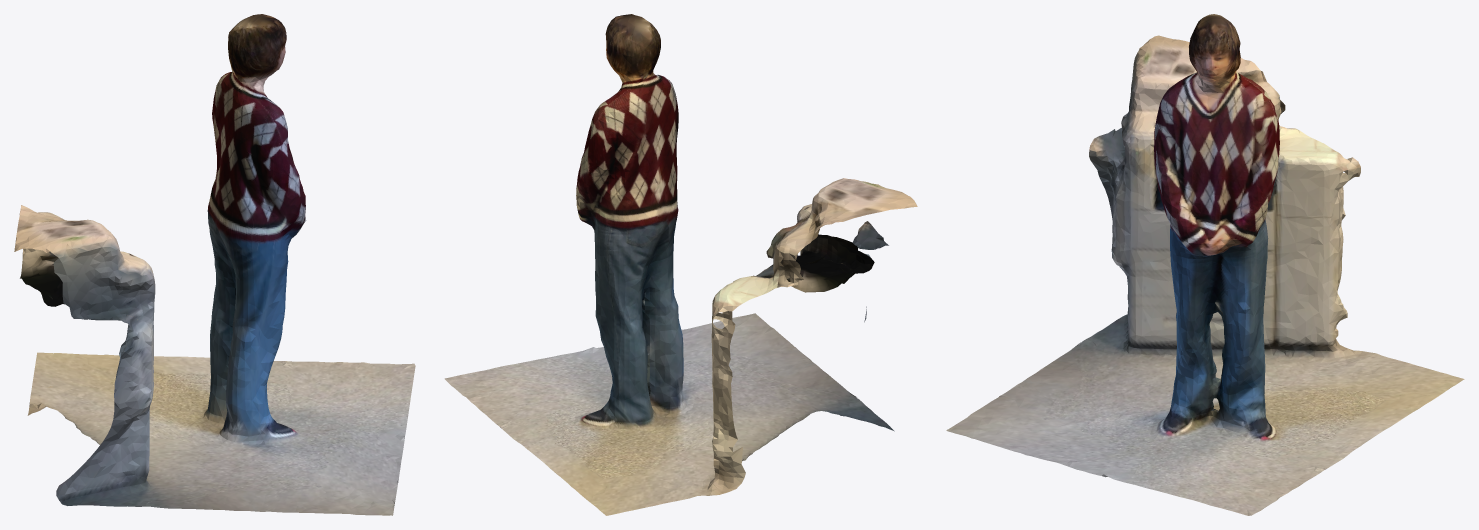
Rendered from Amory.glb.
3 views of the same model, side by side, from view 1: azimuth 30°, elevation 25°; view 2: azimuth 150°, elevation 25°; view 3: azimuth 270°, elevation 25° (orthographic). The views are drawn at different scales.
Size of the model in its own units: 2.06 by 1.79 by 2.04.
Materials: 1 (1 with a texture image).
